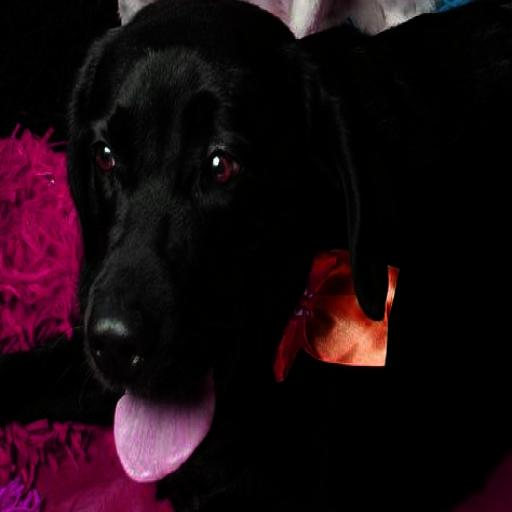dog_face: (60, 16, 373, 442)
